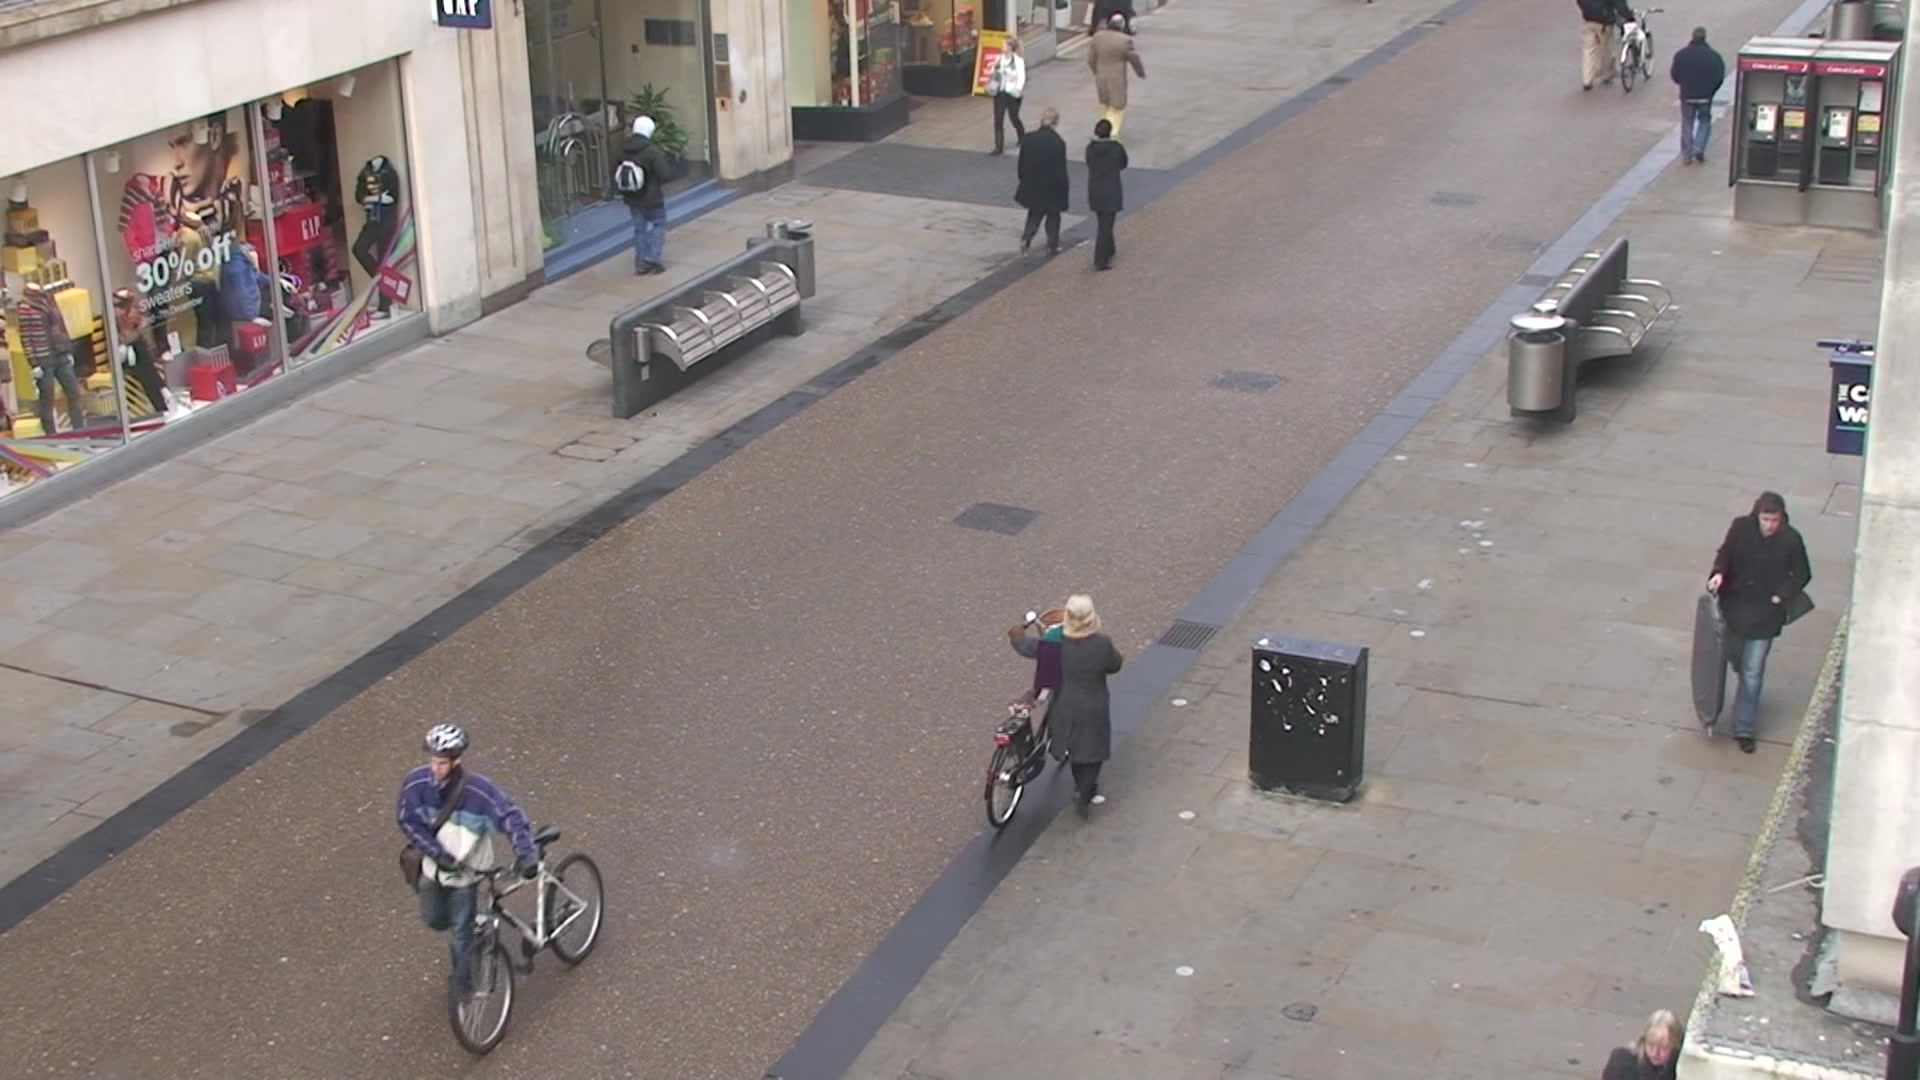person: (401, 720, 538, 1006), (1706, 490, 1811, 756), (1006, 593, 1127, 812), (611, 116, 674, 276), (1015, 108, 1071, 260), (1670, 26, 1727, 165), (1086, 13, 1146, 144), (1086, 117, 1128, 272), (988, 31, 1032, 160)
